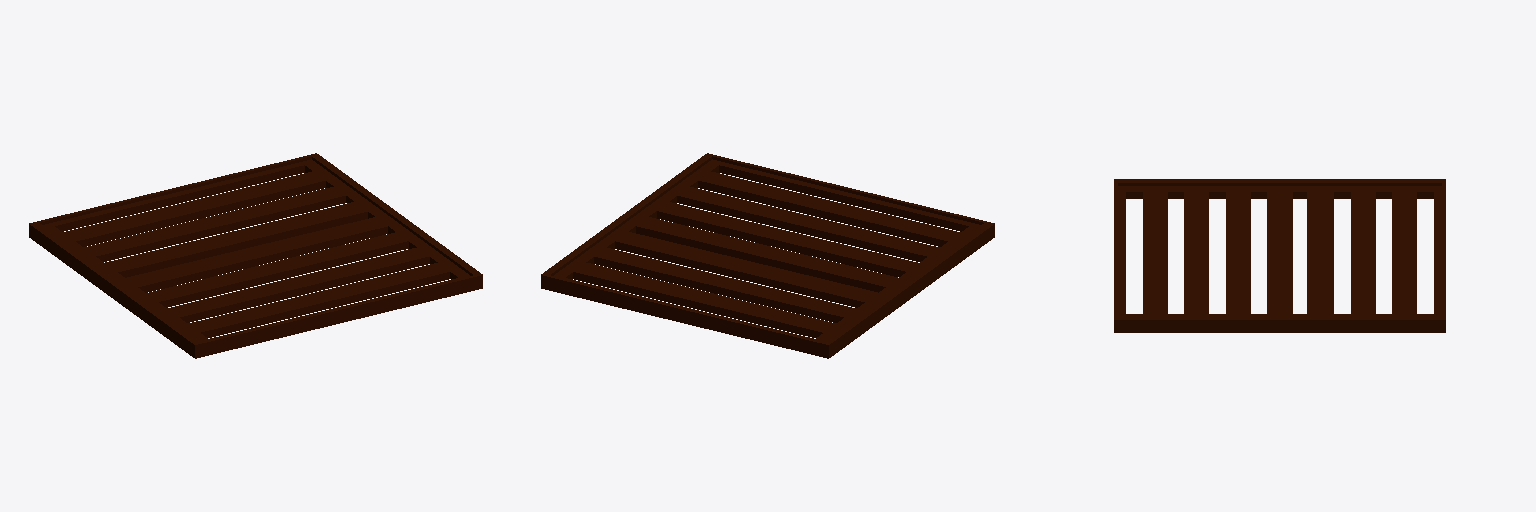
File: 2x2_catwalk.obj
3 views of the same model, side by side, from view 1: azimuth 30°, elevation 25°; view 2: azimuth 150°, elevation 25°; view 3: azimuth 270°, elevation 25° (orthographic).
Parts seen in each view (by area): view 1: catwalk; view 2: catwalk; view 3: catwalk.
Boxes of the visible parts, x1=… form: catwalk: x1=29, y1=153, x2=482, y2=358; catwalk: x1=541, y1=153, x2=994, y2=358; catwalk: x1=1114, y1=179, x2=1445, y2=332.
Bounding box in the file's own units: 2 × 0.09 × 2.